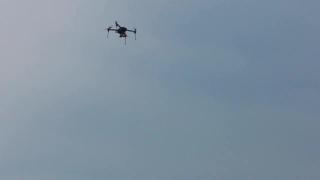UAV: (104, 21, 137, 45)
